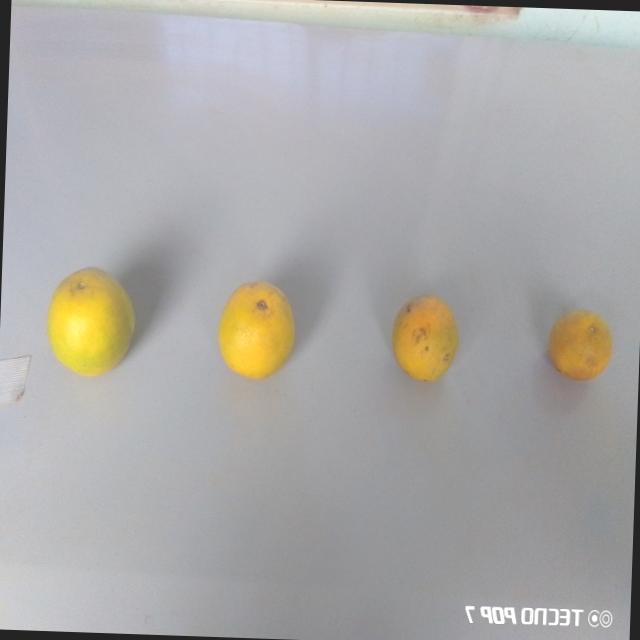Ripe orange: (38, 264, 154, 396), (206, 279, 309, 389), (382, 292, 463, 391), (544, 304, 617, 396)
